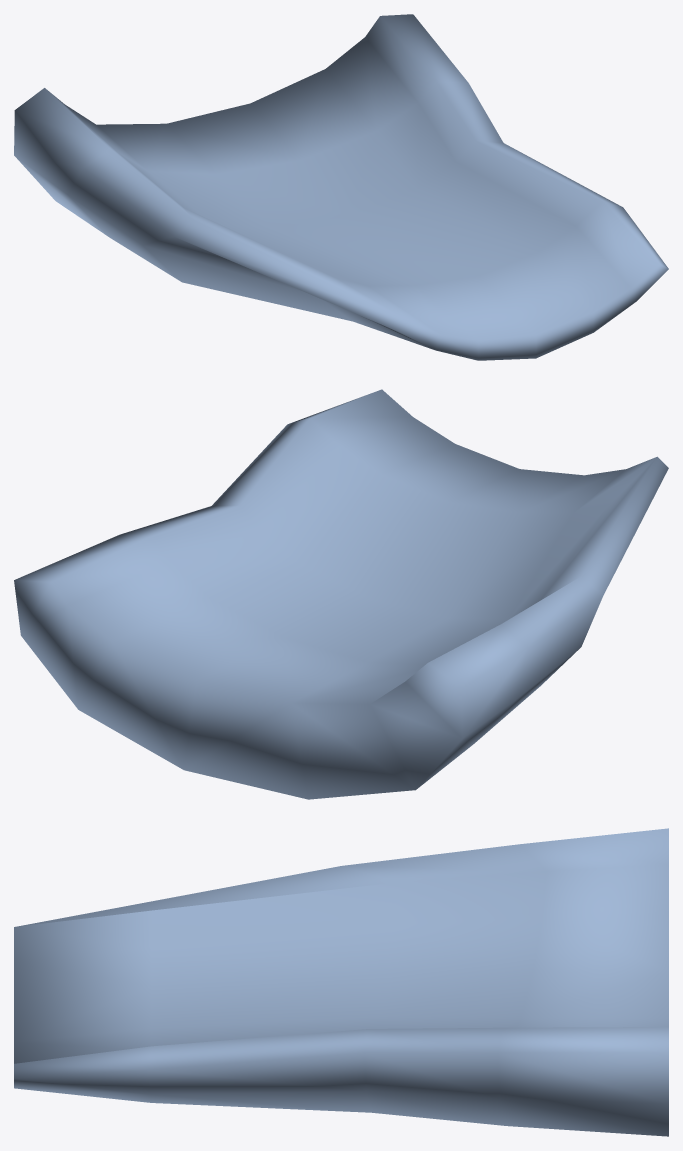
The model's file is junRoadconnector5to10.fbx.
3 views of the same model, one above another, from view 1: azimuth 30°, elevation 25°; view 2: azimuth 150°, elevation 25°; view 3: azimuth 270°, elevation 25° (orthographic). The views are drawn at different scales.
Visible parts, largest first — view 1: connector5to10_LOD0; view 2: connector5to10_LOD0; view 3: connector5to10_LOD0.
Boxes of the visible parts, box(x1,y1,x2,y2) form: connector5to10_LOD0: box(14, 14, 668, 360); connector5to10_LOD0: box(14, 389, 668, 799); connector5to10_LOD0: box(14, 828, 668, 1136).
Bounding box in the file's own units: 971 × 346 × 1207.
